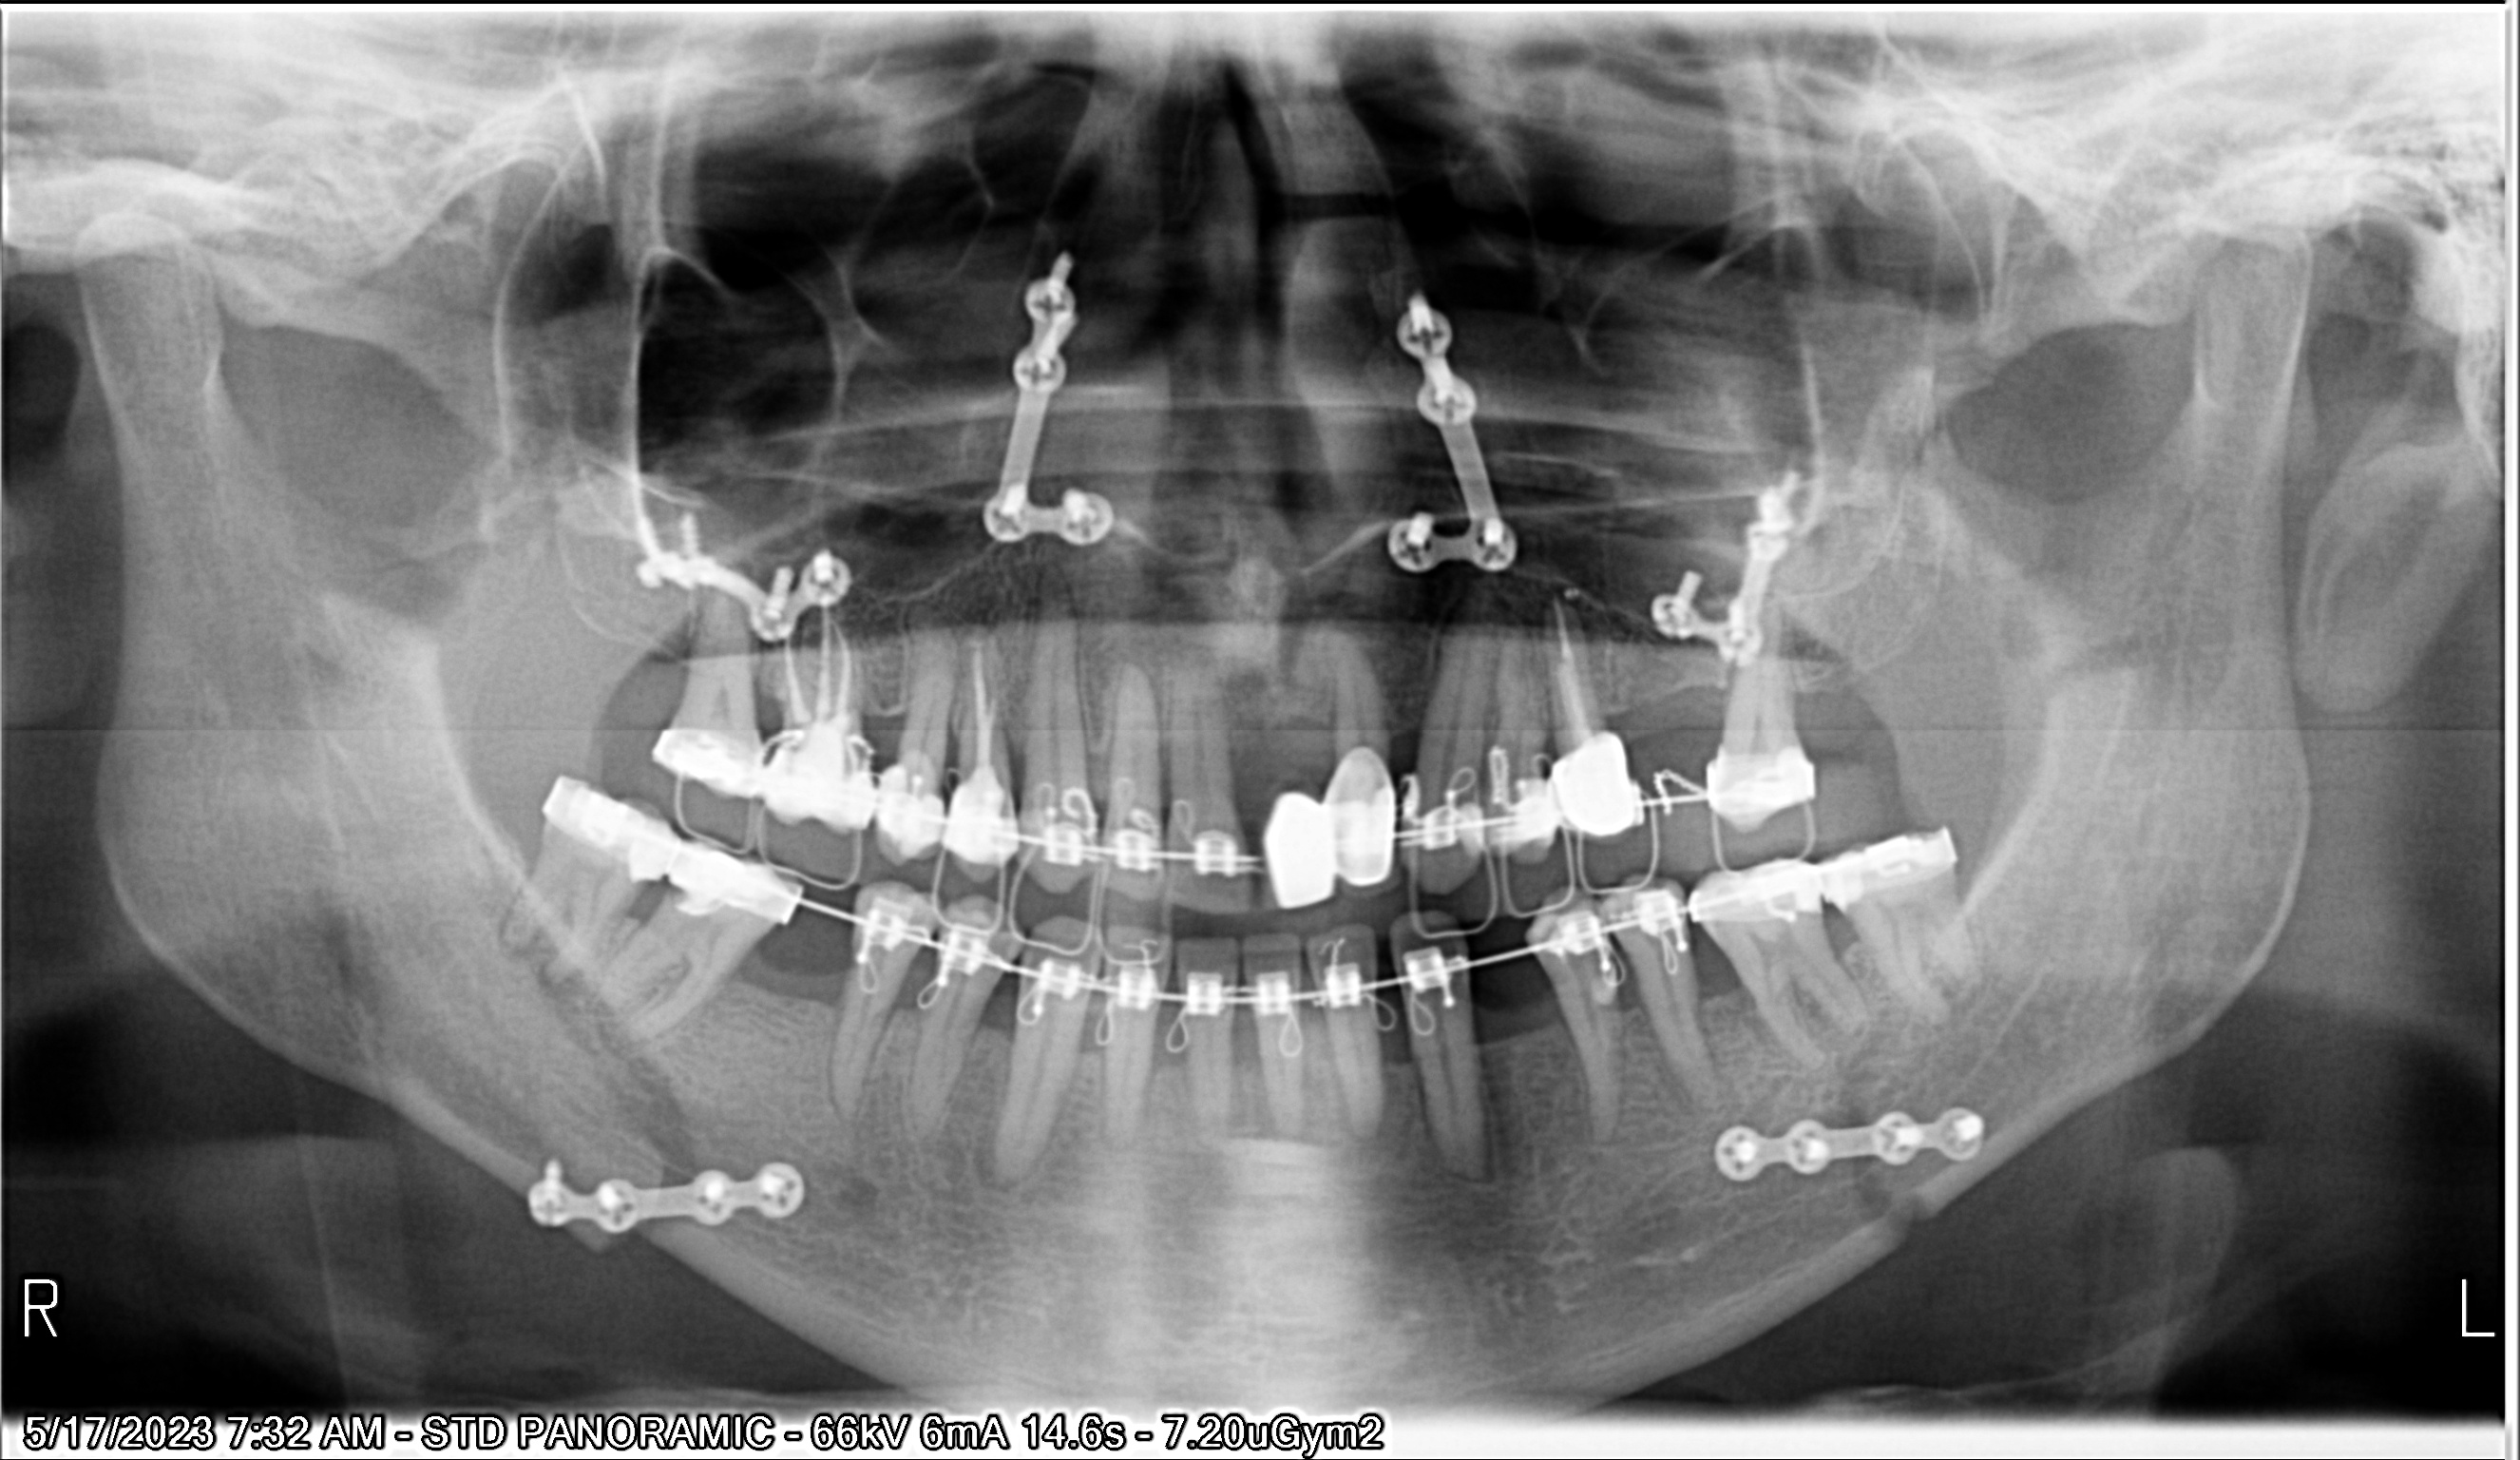BON: (815, 424, 2520, 1432), (782, 433, 2418, 1451), (882, 426, 2520, 1373), (672, 461, 2075, 1460), (837, 306, 2520, 1069), (610, 474, 1865, 1460), (740, 311, 2242, 1125), (566, 473, 1751, 1460), (537, 468, 1639, 1460), (481, 455, 1499, 1460), (568, 342, 1747, 1166), (439, 440, 1374, 1460), (285, 395, 962, 1331), (349, 294, 1127, 1036)
END: (743, 222, 2334, 952), (453, 231, 1452, 1008), (396, 247, 1257, 972), (393, 242, 1223, 972), (365, 243, 1162, 959)
OBT: (867, 396, 2520, 1324), (889, 407, 2520, 1323), (728, 323, 2378, 1156), (837, 356, 2520, 1152), (441, 356, 1445, 1222), (419, 337, 1351, 1204), (339, 320, 1195, 1156), (313, 400, 1037, 1323)
ORD: (0, 222, 1506, 1253), (0, 96, 1527, 1029)
PRR: (554, 306, 1936, 1224)
SRD: (745, 502, 2520, 1460), (757, 103, 2520, 760), (559, 0, 2096, 546), (125, 516, 938, 1460), (419, 0, 1540, 499), (208, 155, 1065, 798)
